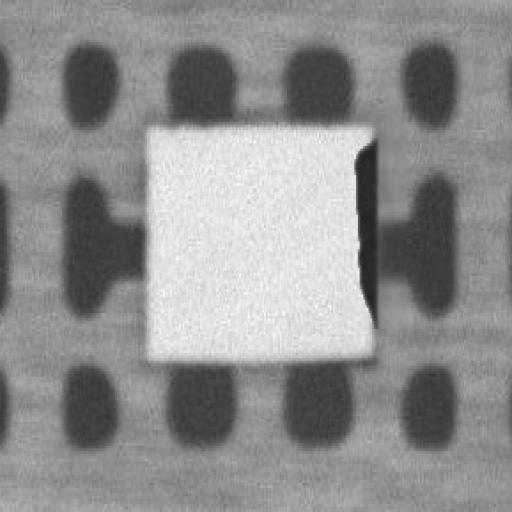DIE_BROKEN: (348, 130, 378, 326)
